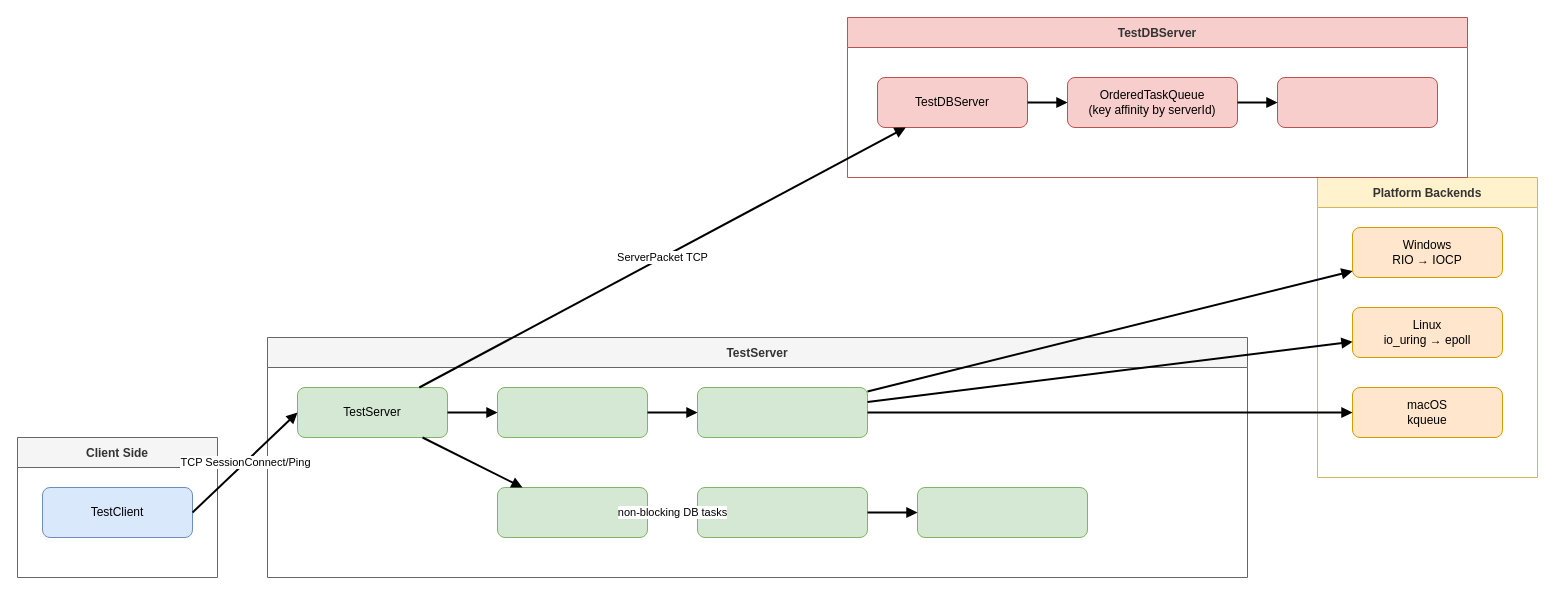
Some shapes in this 1555 by 595 pixel diagram are drawn without their labels. Each missing label, with the centre of its shape:
"BaseNetworkEngine" belongs at point 782,412.
"ClientSession" belongs at point 572,512.
"DBTaskQueue (N workers + WAL)" belongs at point 782,512.
"INetworkEngine" belongs at point 572,412.
"Local DB (SQLite or Mock)" belongs at point 1002,512.
"ServerLatencyManager" belongs at point 1357,102.
